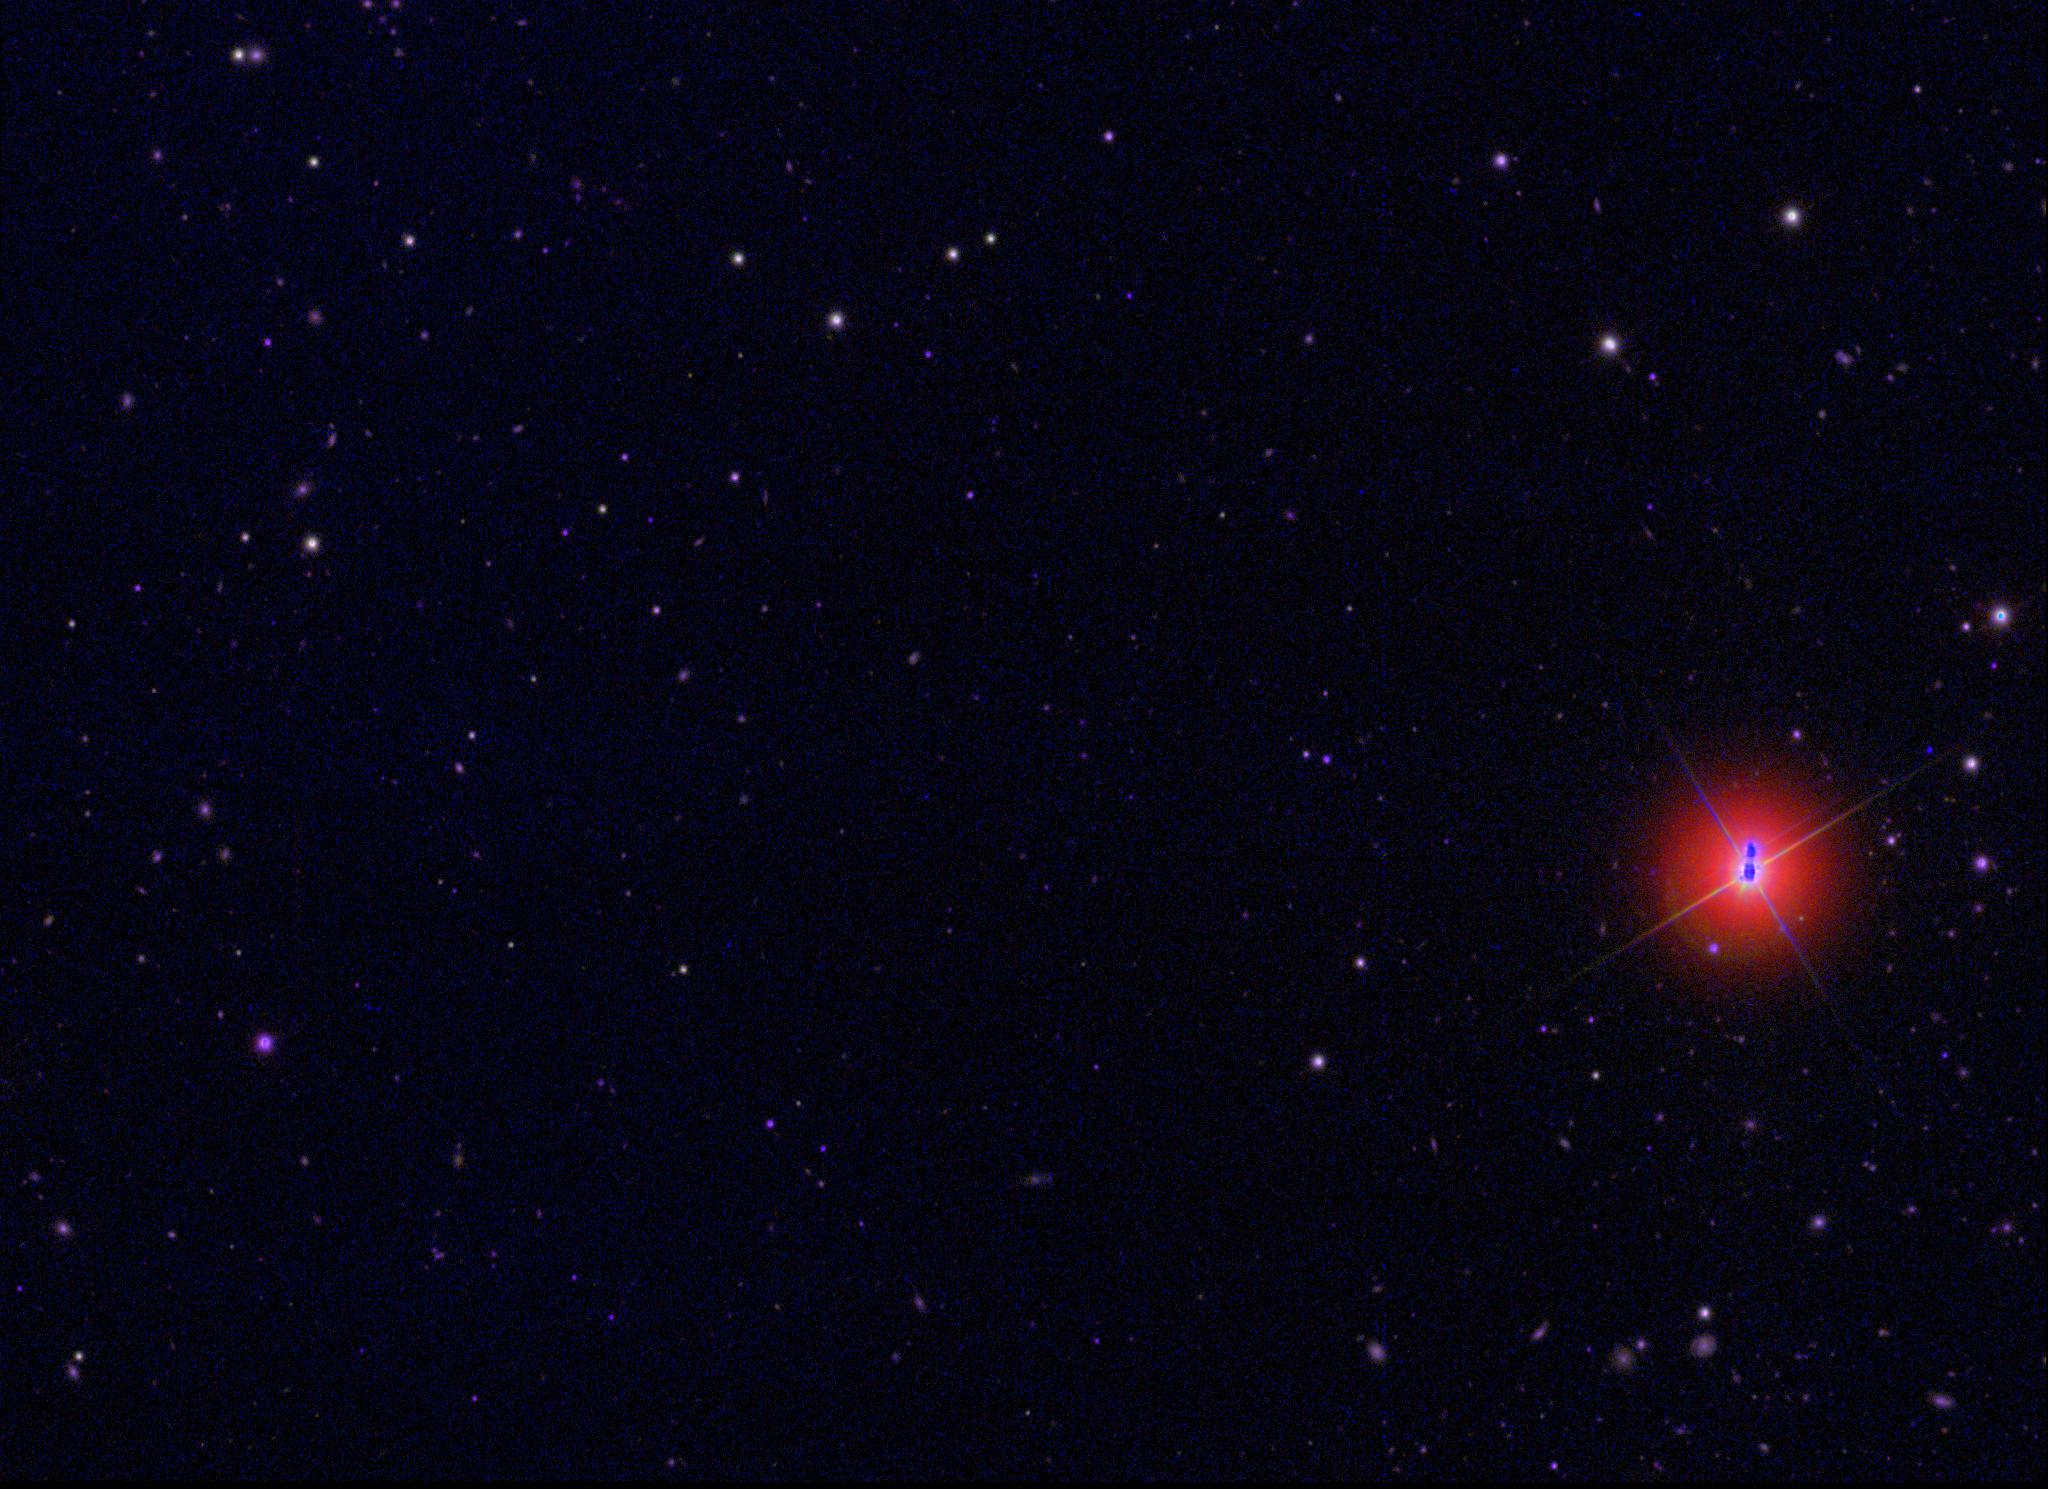L: (1922, 743, 1937, 757)
